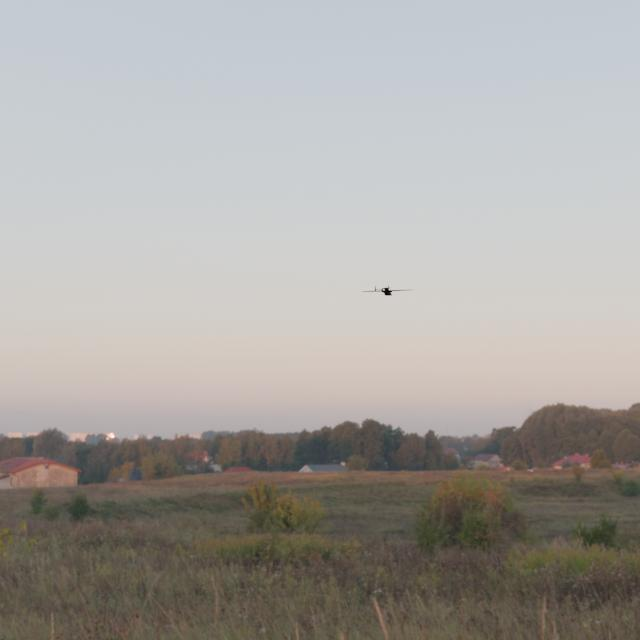Airaplan: (361, 285, 413, 296)
